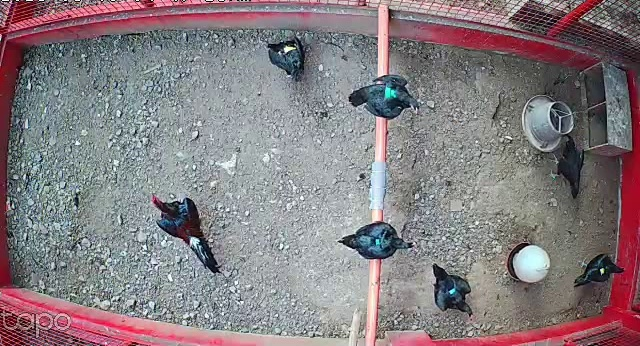Chicken: (340, 62, 429, 126), (336, 221, 418, 265), (427, 260, 478, 322), (544, 133, 590, 199), (568, 249, 629, 288), (265, 34, 310, 85)
Rooster: (147, 191, 223, 276)
Saddle_Color_Blue: (448, 288, 456, 295)
Saddle_Color_Yellow: (277, 42, 298, 55)
